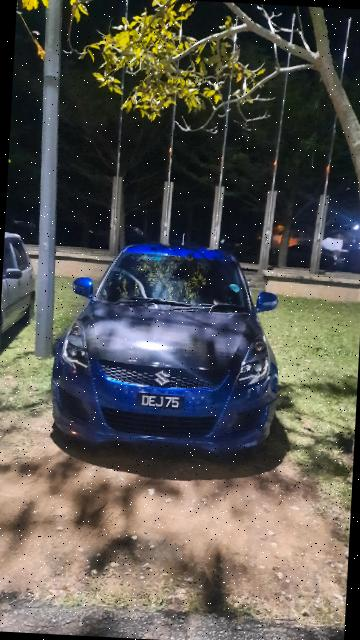License_Plate: (130, 388, 188, 412)
car: (45, 235, 293, 461)
